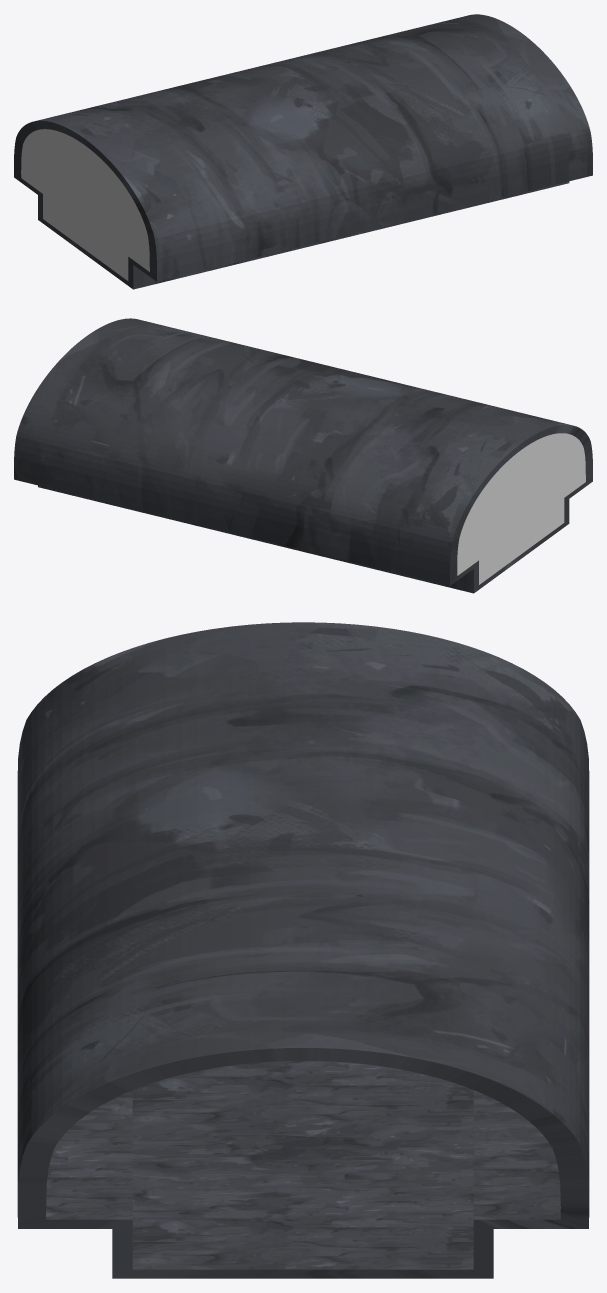
Rendered from blind.fbx.
3 renders of one model, top to bottom at view 1: azimuth 30°, elevation 25°; view 2: azimuth 150°, elevation 25°; view 3: azimuth 270°, elevation 25°, orthographic. The views are drawn at different scales.
Visible parts, largest first — view 1: Cylinder; view 2: Cylinder; view 3: Cylinder.
Boxes of the visible parts, x1,y1,x2,y2 form: Cylinder: (14,14,592,289); Cylinder: (14,318,592,593); Cylinder: (17,622,589,1278).
Bounding box in the file's own units: 2113 × 534 × 1200.
Materials: 2 (1 with a texture image).
